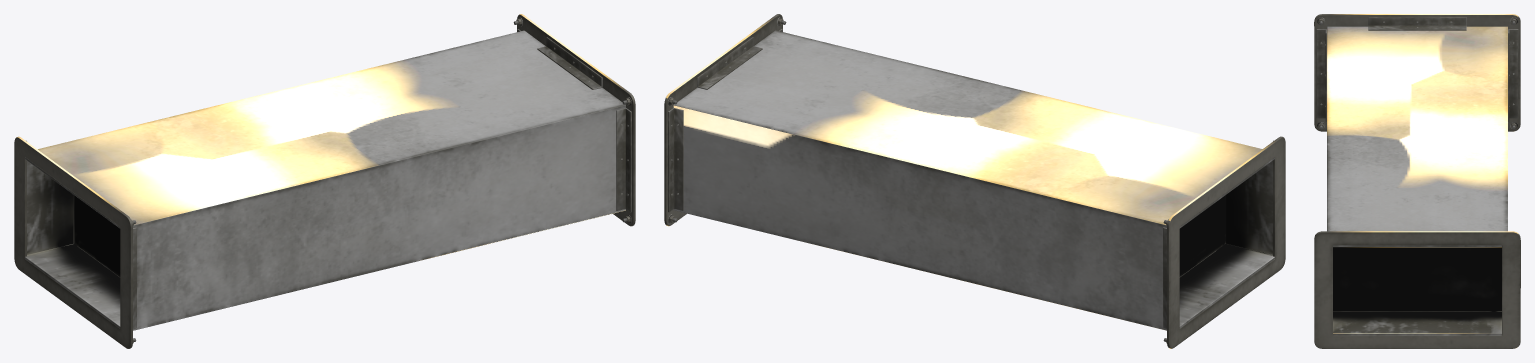
File: SM_Ventilation_Set_01a.fbx
3 views of the same model, side by side, from view 1: azimuth 30°, elevation 25°; view 2: azimuth 150°, elevation 25°; view 3: azimuth 270°, elevation 25° (orthographic). The views are drawn at different scales.
Visible parts, largest first — view 1: SM_Ventilation_Set_01a_LOD0; view 2: SM_Ventilation_Set_01a_LOD0; view 3: SM_Ventilation_Set_01a_LOD0.
Part boxes in pixels (x1,y1,x2,y2): SM_Ventilation_Set_01a_LOD0: (14,14,635,348); SM_Ventilation_Set_01a_LOD0: (664,14,1285,348); SM_Ventilation_Set_01a_LOD0: (1314,14,1520,348).
Bounding box in the file's own units: 200 × 80 × 50.
